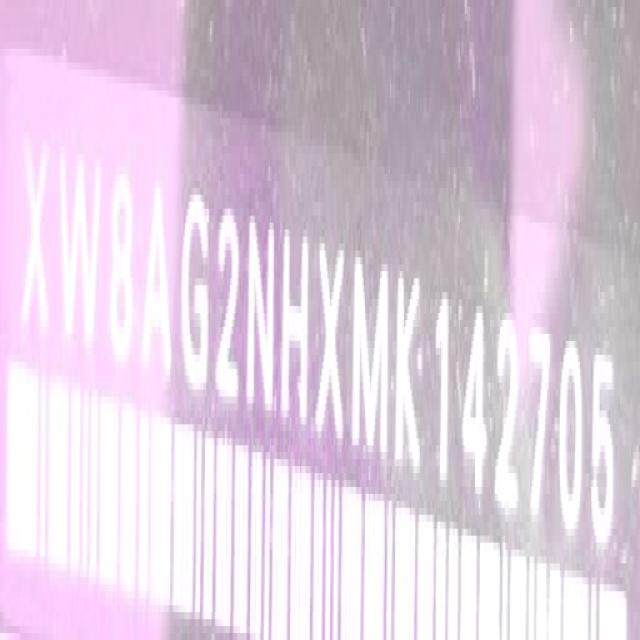0: (556, 332, 583, 552)
1: (431, 284, 453, 498)
2: (214, 199, 242, 415), (497, 309, 522, 525)
4: (460, 298, 487, 514)
5: (593, 339, 619, 556)
7: (528, 318, 551, 538)
8: (110, 172, 136, 378)
A: (138, 176, 172, 392)
G: (180, 185, 213, 405)
H: (282, 222, 312, 437)
K: (395, 253, 424, 479)
M: (348, 240, 391, 466)
N: (246, 210, 278, 425)
W: (55, 146, 101, 368)
X: (20, 126, 50, 352), (316, 229, 346, 449)
